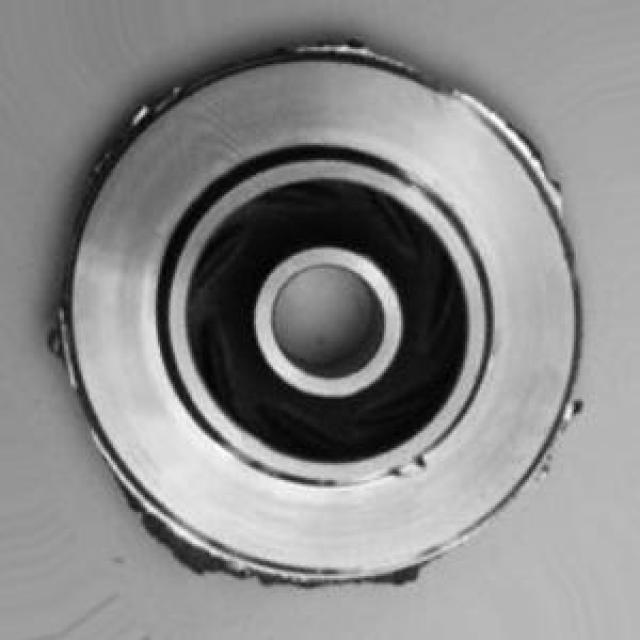Defect: (484, 82, 544, 165), (45, 313, 82, 375)
